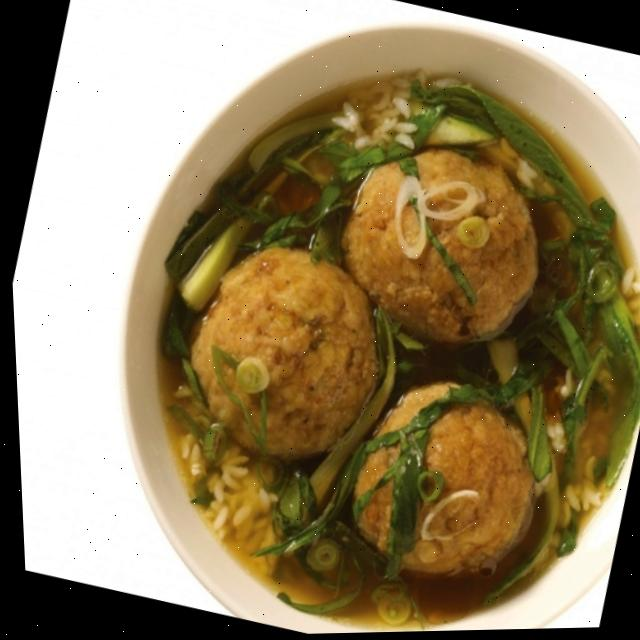猪肉菜式: (37, 0, 640, 639)
